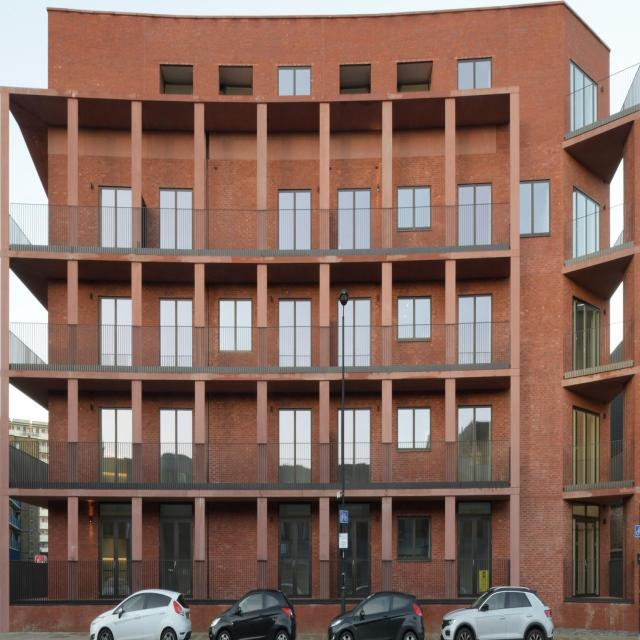railing: (566, 63, 640, 138), (563, 200, 629, 266), (562, 321, 628, 383), (561, 436, 630, 491), (566, 557, 631, 604), (74, 206, 130, 251), (8, 203, 66, 246), (7, 561, 66, 603), (7, 443, 67, 484), (453, 325, 508, 369), (8, 323, 66, 364), (76, 324, 130, 367), (76, 443, 132, 484), (139, 327, 193, 369), (389, 326, 444, 367), (77, 559, 130, 601), (265, 211, 319, 252), (141, 208, 191, 251), (453, 442, 508, 481), (266, 327, 318, 368), (328, 444, 380, 485), (203, 444, 256, 484), (140, 444, 193, 484), (390, 443, 443, 483), (454, 206, 508, 245), (203, 561, 257, 600), (204, 328, 256, 368), (328, 327, 380, 367), (391, 209, 445, 247), (453, 559, 507, 597), (329, 209, 383, 247), (390, 561, 443, 599), (328, 560, 379, 599), (265, 445, 317, 483), (206, 212, 255, 250), (275, 561, 318, 601), (157, 561, 192, 599)
window: (519, 179, 550, 233), (573, 503, 601, 558), (458, 514, 491, 556), (457, 404, 492, 443), (279, 408, 313, 446), (398, 405, 431, 444), (338, 518, 370, 558), (101, 515, 131, 557), (399, 516, 430, 556), (338, 407, 370, 445), (161, 519, 192, 557), (99, 405, 132, 440), (160, 406, 193, 440), (338, 296, 373, 328), (282, 520, 310, 559), (397, 294, 431, 326), (573, 404, 600, 442), (458, 58, 492, 88), (100, 294, 132, 322), (220, 296, 252, 324), (278, 68, 311, 95), (573, 294, 599, 328), (160, 296, 192, 323), (458, 294, 491, 320), (574, 185, 600, 216), (282, 299, 314, 324), (459, 181, 492, 202), (570, 58, 593, 88), (397, 185, 431, 205), (159, 189, 191, 210), (338, 187, 371, 207), (279, 189, 310, 207), (101, 186, 131, 204)
